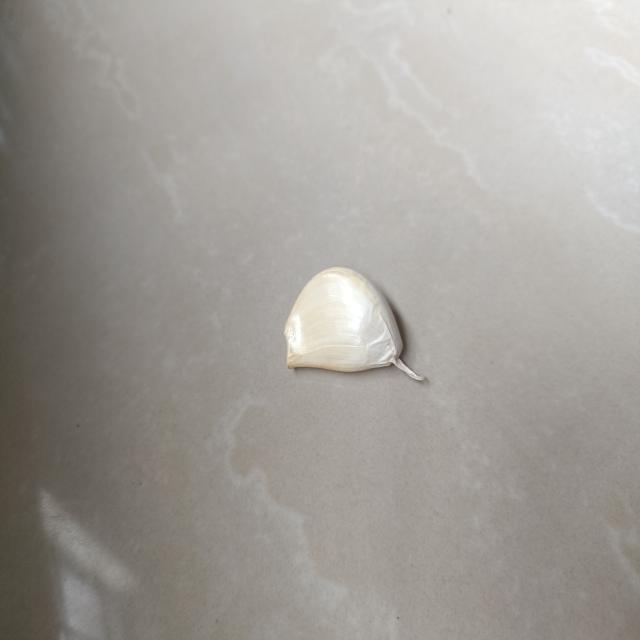garlic: (280, 258, 431, 392)
